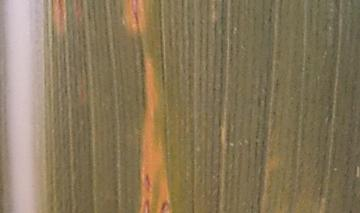tarspot: (266, 14, 273, 24), (270, 109, 278, 117), (267, 5, 274, 14)
